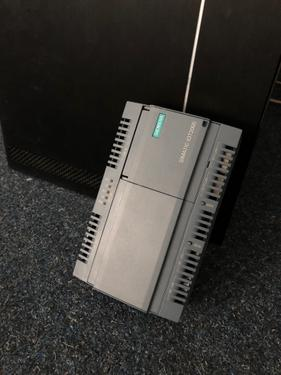device: (73, 101, 243, 323)
